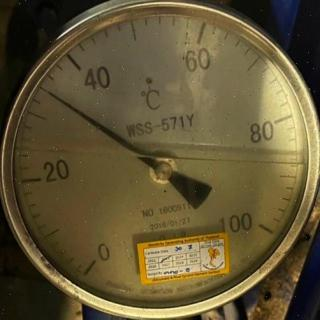gauge: (0, 0, 320, 320), (242, 209, 282, 245), (77, 247, 109, 277), (149, 157, 175, 183), (44, 87, 56, 101)
